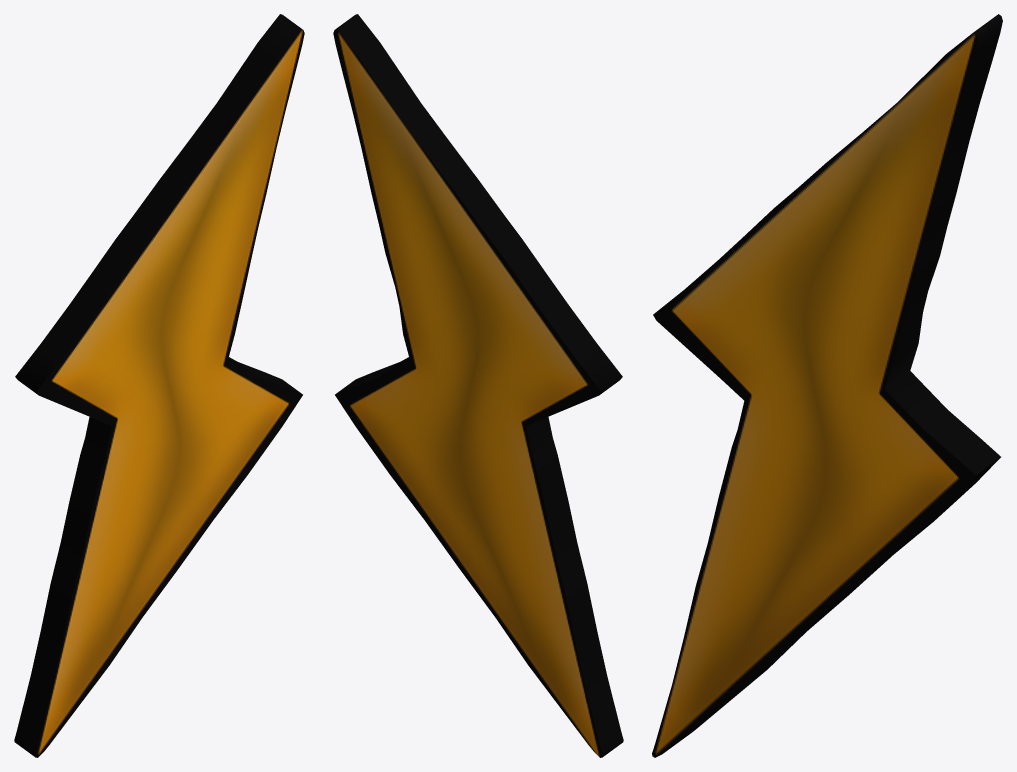
File: boost.FBX
The picture shows the model from 3 angles, left to right: view 1: azimuth 30°, elevation 25°; view 2: azimuth 150°, elevation 25°; view 3: azimuth 330°, elevation 25°; orthographic projection. The views are drawn at different scales.
Visible parts, largest first — view 1: Box001; view 2: Box001; view 3: Box001.
Boxes of the visible parts, <box> form: Box001: <box>14,14,304,757</box>; Box001: <box>333,14,623,757</box>; Box001: <box>652,14,1002,757</box>.
Size of the model in its own units: 68.09 by 160 by 9.2.
